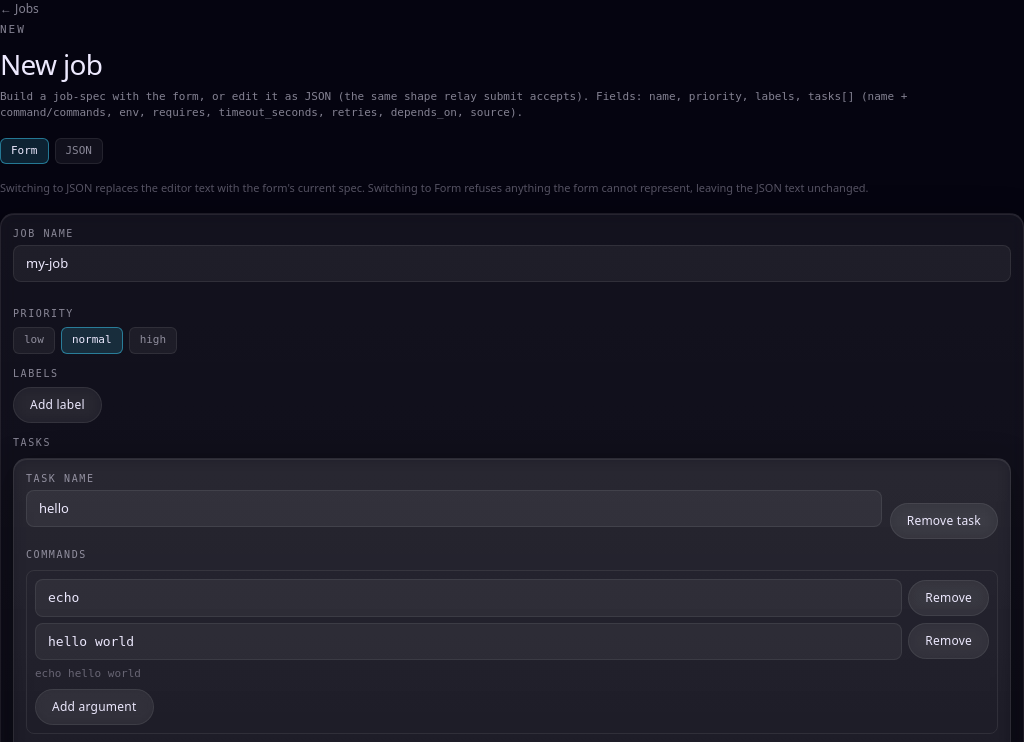
Test: a JSON syntax error refuses the switch back and leaves the text byte-identical
Click the button "JSON". click: (79, 151)
box: 54,138 -> 103,164
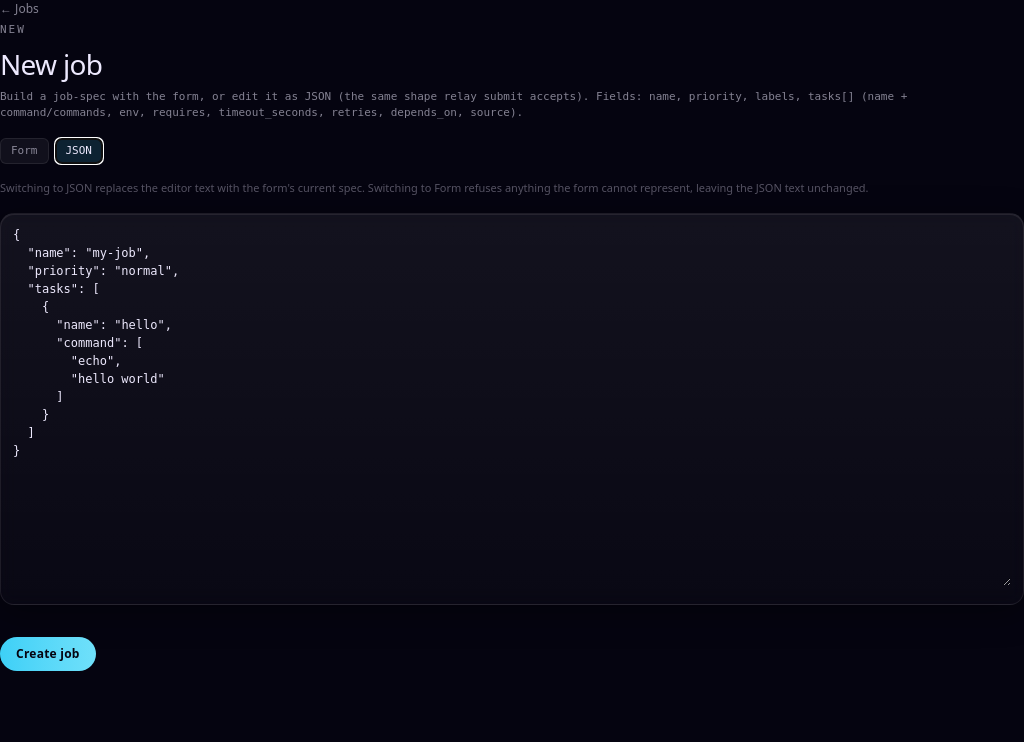
Clear the text box named "Job spec JSON". click: (512, 406)
box: 13,226 -> 1011,586
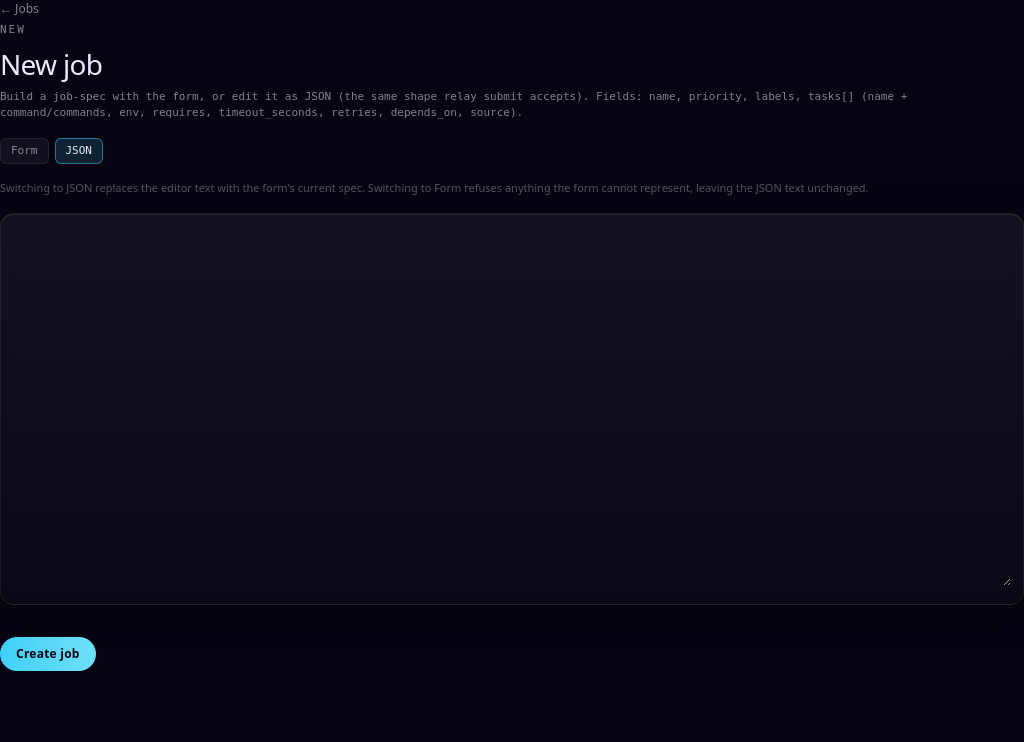
Type keys "{ not json"
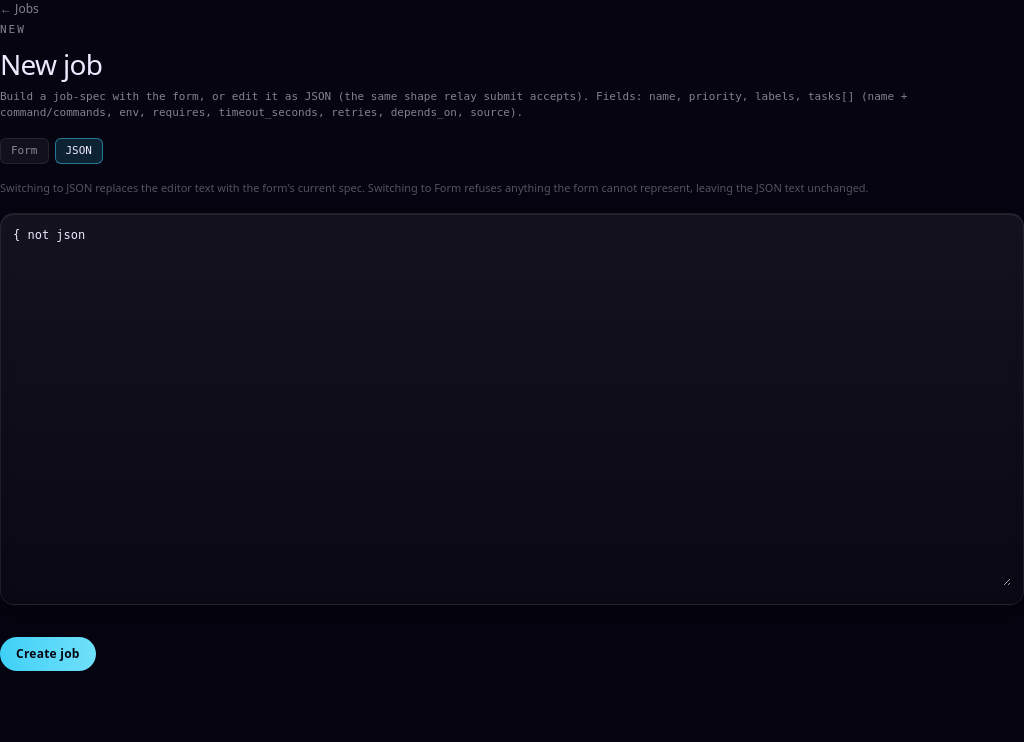
Click the button "Form". click: (24, 151)
box: 0,138 -> 48,164
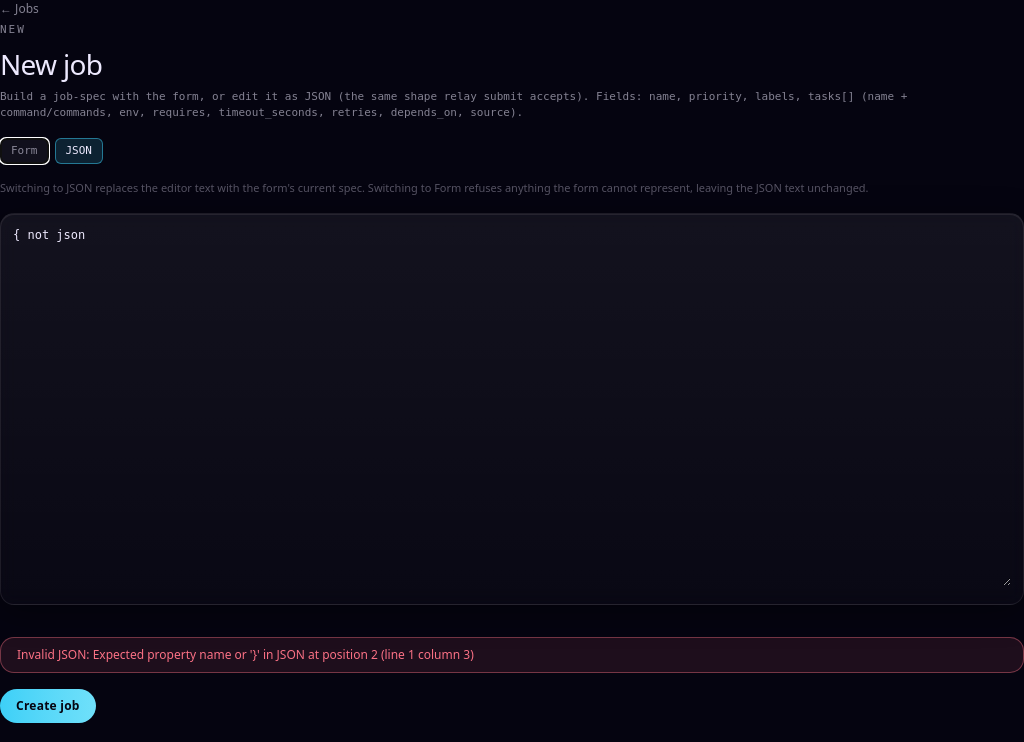
Now the text box named "Job spec JSON" holds "{ not json", box 13,226 -> 1011,586
Now the message shows "Invalid JSON", box 17,646 -> 474,662
